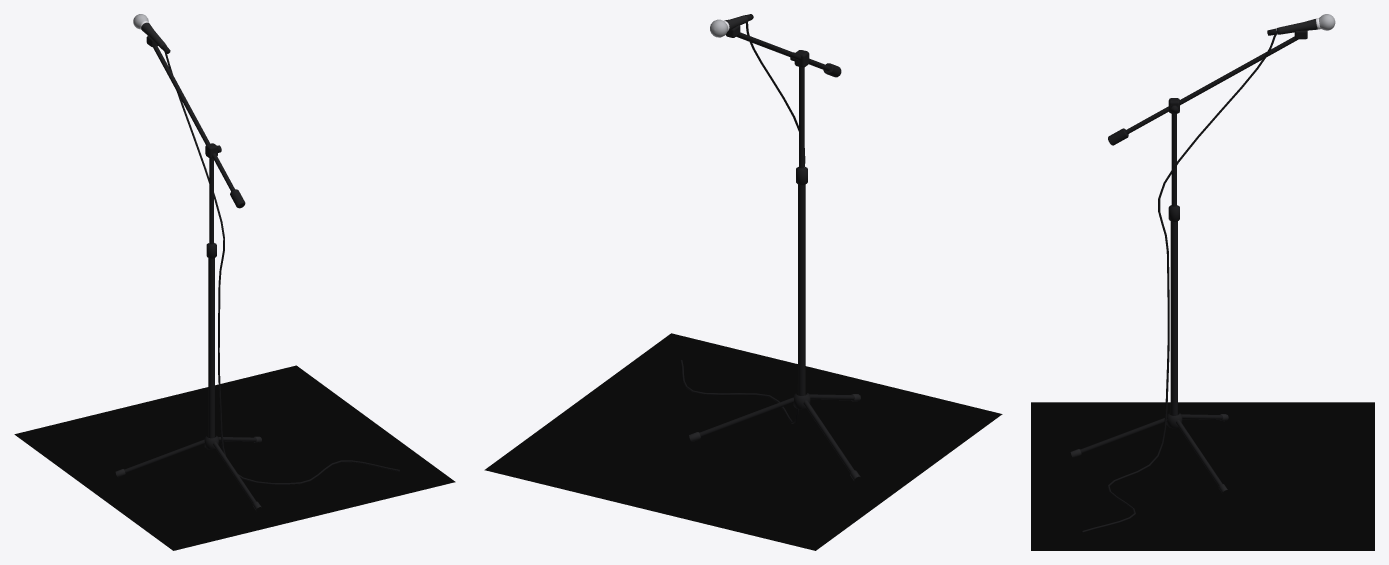
Rendered from mic_stand.glb.
3 renders of one model, left to right at view 1: azimuth 30°, elevation 25°; view 2: azimuth 150°, elevation 25°; view 3: azimuth 270°, elevation 25°, orthographic. The views are drawn at different scales.
Visible parts, largest first — view 1: mic_stand_Shadow, mic_stand_LOD0; view 2: mic_stand_Shadow, mic_stand_LOD0; view 3: mic_stand_Shadow, mic_stand_LOD0.
Boxes of the visible parts, box(x1,y1,x2,y2) form: mic_stand_Shadow: box(14, 365, 455, 550); mic_stand_LOD0: box(115, 14, 399, 510); mic_stand_Shadow: box(484, 333, 1002, 550); mic_stand_LOD0: box(680, 14, 860, 480); mic_stand_Shadow: box(1031, 402, 1374, 550); mic_stand_LOD0: box(1070, 14, 1335, 532).
Size of what is drawn, in the model's own units: 1.07 by 1.49 by 1.04.
2 materials, 2 textured.
